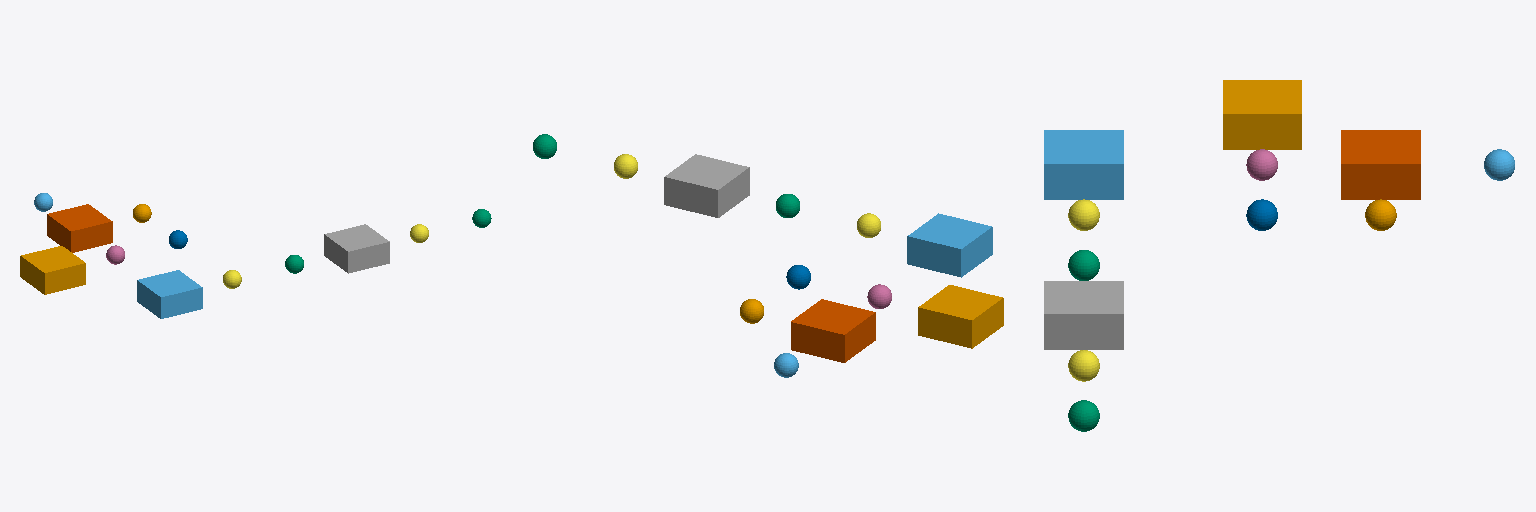
The robot description file, URDF, robot "apparatus_for_handling_and_moving_a_plurality_of_objects":
<?xml version="1.0" ?>
<robot name="apparatus_for_handling_and_moving_a_plurality_of_objects">
  <link name="computer">
    <visual>
      <geometry>
        <sphere radius="0.008"/>
      </geometry>
    </visual>
  </link>
  <link name="cone">
    <visual>
      <geometry>
        <box size="0.04 0.04 0.02"/>
      </geometry>
    </visual>
  </link>
  <link name="data_input_means">
    <visual>
      <geometry>
        <sphere radius="0.008"/>
      </geometry>
    </visual>
  </link>
  <link name="feedback_loop">
    <visual>
      <geometry>
        <sphere radius="0.008"/>
      </geometry>
    </visual>
  </link>
  <link name="first_sensing_system">
    <visual>
      <geometry>
        <sphere radius="0.008"/>
      </geometry>
    </visual>
  </link>
  <link name="gripper_fingers">
    <visual>
      <geometry>
        <box size="0.04 0.04 0.02"/>
      </geometry>
    </visual>
  </link>
  <link name="gripper_mechanism">
    <visual>
      <geometry>
        <sphere radius="0.008"/>
      </geometry>
    </visual>
  </link>
  <link name="power_source">
    <visual>
      <geometry>
        <box size="0.04 0.04 0.02"/>
      </geometry>
    </visual>
  </link>
  <link name="robotic_arm_assembly">
    <visual>
      <geometry>
        <box size="0.04 0.04 0.02"/>
      </geometry>
    </visual>
  </link>
  <link name="second_sensing_system">
    <visual>
      <geometry>
        <sphere radius="0.008"/>
      </geometry>
    </visual>
  </link>
  <link name="stepper_motor_cone">
    <visual>
      <geometry>
        <sphere radius="0.008"/>
      </geometry>
    </visual>
  </link>
  <link name="stepper_motors">
    <visual>
      <geometry>
        <sphere radius="0.008"/>
      </geometry>
    </visual>
  </link>
  <joint name="_attach_computer_to_stepper_motors" type="fixed">
    <parent link="computer"/>
    <child link="stepper_motors"/>
    <origin xyz="0.0000 -0.1500 0.0000" rpy="0 0 0"/>
  </joint>
  <joint name="_attach_first_sensing_system_to_computer" type="fixed">
    <parent link="first_sensing_system"/>
    <child link="computer"/>
    <origin xyz="0.0000 0.0600 0.0000" rpy="0 0 0"/>
  </joint>
  <joint name="_attach_gripper_mechanism_to_gripper_fingers" type="fixed">
    <parent link="gripper_mechanism"/>
    <child link="gripper_fingers"/>
    <origin xyz="0.0000 0.0600 0.0000" rpy="0 0 0"/>
  </joint>
  <joint name="_attach_gripper_mechanism_to_second_sensing_system" type="fixed">
    <parent link="gripper_mechanism"/>
    <child link="second_sensing_system"/>
    <origin xyz="0.0000 0.1200 0.0000" rpy="0 0 0"/>
  </joint>
  <joint name="_attach_robotic_arm_assembly_to_cone" type="fixed">
    <parent link="robotic_arm_assembly"/>
    <child link="cone"/>
    <origin xyz="0.0600 -0.0900 0.0000" rpy="0 0 0"/>
  </joint>
  <joint name="_attach_robotic_arm_assembly_to_data_input_means" type="fixed">
    <parent link="robotic_arm_assembly"/>
    <child link="data_input_means"/>
    <origin xyz="0.3600 -0.0900 0.0000" rpy="0 0 0"/>
  </joint>
  <joint name="_attach_robotic_arm_assembly_to_feedback_loop" type="fixed">
    <parent link="robotic_arm_assembly"/>
    <child link="feedback_loop"/>
    <origin xyz="0.3000 -0.0900 0.0000" rpy="0 0 0"/>
  </joint>
  <joint name="_attach_robotic_arm_assembly_to_first_sensing_system" type="fixed">
    <parent link="robotic_arm_assembly"/>
    <child link="first_sensing_system"/>
    <origin xyz="0.1200 0.0000 0.0000" rpy="0 0 0"/>
  </joint>
  <joint name="_attach_robotic_arm_assembly_to_gripper_mechanism" type="fixed">
    <parent link="robotic_arm_assembly"/>
    <child link="gripper_mechanism"/>
    <origin xyz="0.0600 0.0000 0.0000" rpy="0 0 0"/>
  </joint>
  <joint name="_attach_robotic_arm_assembly_to_power_source" type="fixed">
    <parent link="robotic_arm_assembly"/>
    <child link="power_source"/>
    <origin xyz="0.2400 -0.0900 0.0000" rpy="0 0 0"/>
  </joint>
  <joint name="_attach_robotic_arm_assembly_to_stepper_motor_cone" type="fixed">
    <parent link="robotic_arm_assembly"/>
    <child link="stepper_motor_cone"/>
    <origin xyz="0.1800 -0.0900 0.0000" rpy="0 0 0"/>
  </joint>
</robot>

--- Facts derived from the render (not from the file) ---
The picture shows the robot from 3 angles, left to right: view 1: azimuth 30°, elevation 25°; view 2: azimuth 150°, elevation 25°; view 3: azimuth 270°, elevation 25°; orthographic projection.
Model apparatus_for_handling_and_moving_a_plurality_of_objects with 12 links and 11 joints (11 fixed), rooted at robotic_arm_assembly, posed every joint at zero.
Links seen in each view (by area): view 1: cone, power_source, robotic_arm_assembly, gripper_fingers; view 2: robotic_arm_assembly, power_source, cone, gripper_fingers; view 3: cone, gripper_fingers, robotic_arm_assembly, power_source, feedback_loop, data_input_means, first_sensing_system, gripper_mechanism, computer, stepper_motors, second_sensing_system, stepper_motor_cone.
Link boxes in pixels (left/top/right/bottom): cone: left=137, top=270, right=202, bottom=318; power_source: left=324, top=224, right=389, bottom=273; robotic_arm_assembly: left=20, top=246, right=85, bottom=294; gripper_fingers: left=47, top=204, right=112, bottom=252; robotic_arm_assembly: left=918, top=285, right=1003, bottom=348; power_source: left=664, top=154, right=749, bottom=217; cone: left=907, top=213, right=992, bottom=277; gripper_fingers: left=791, top=299, right=875, bottom=362; cone: left=1044, top=130, right=1123, bottom=199; gripper_fingers: left=1341, top=130, right=1420, bottom=199; robotic_arm_assembly: left=1223, top=80, right=1301, bottom=149; power_source: left=1044, top=281, right=1123, bottom=349; feedback_loop: left=1068, top=350, right=1099, bottom=381; data_input_means: left=1068, top=400, right=1099, bottom=431; first_sensing_system: left=1246, top=199, right=1277, bottom=230; gripper_mechanism: left=1246, top=149, right=1277, bottom=180; computer: left=1365, top=199, right=1396, bottom=230; stepper_motors: left=1068, top=199, right=1099, bottom=230; second_sensing_system: left=1484, top=149, right=1514, bottom=180; stepper_motor_cone: left=1068, top=250, right=1099, bottom=280.
Size in the robot's own frame: 0.388 by 0.238 by 0.02 metres.
Geometry: primitives only (box / cylinder / sphere), no mesh files.
